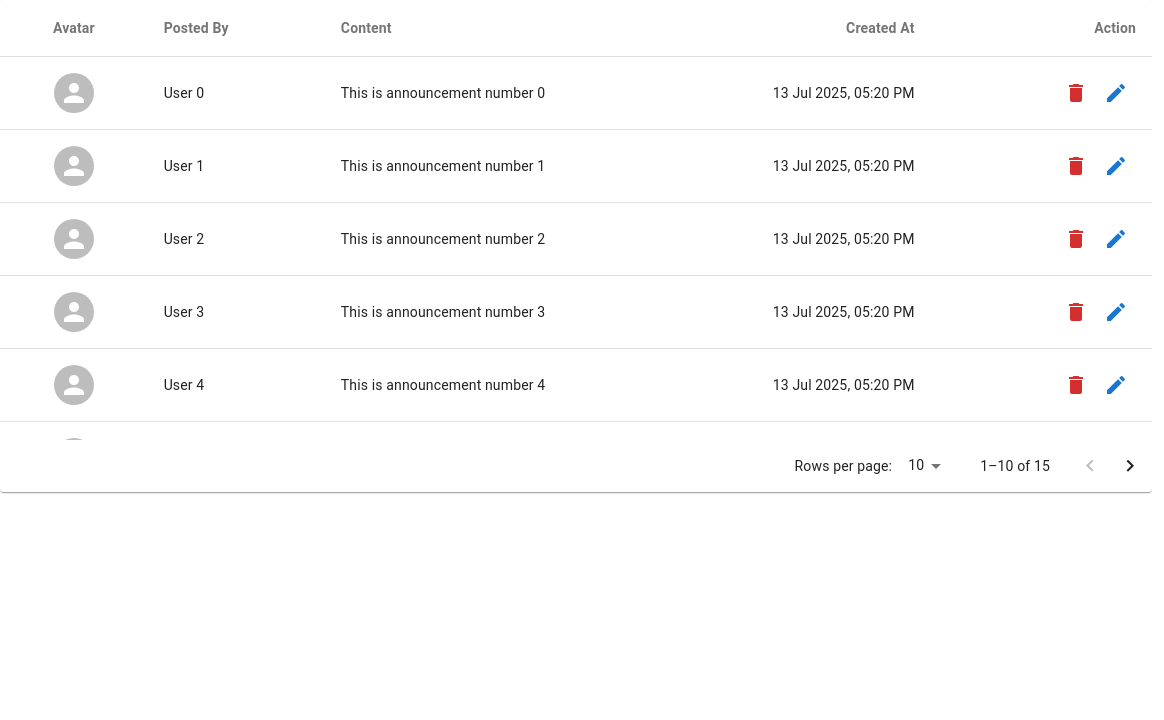
Test: TableContent Component › navigates to the next page
The image size is (1164, 720).
Click the button named "Go to next page".
click(1130, 466)  # box [1110,446,1150,486]
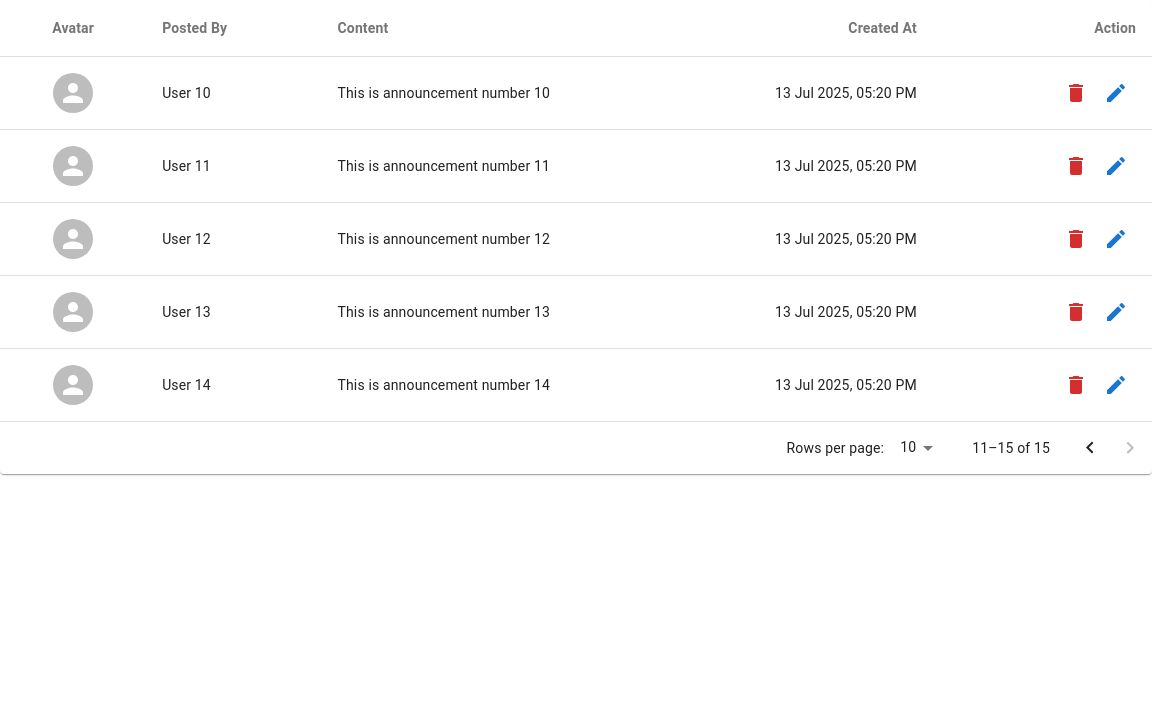
Check: the text "This is announcement number 10" is shown, box [322,57,679,130]
